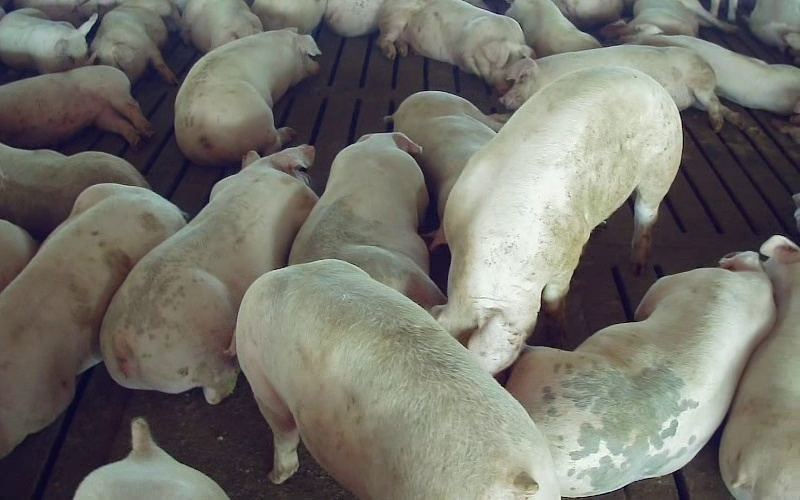pig: (237, 259, 559, 499), (438, 67, 681, 372), (506, 253, 774, 495), (101, 146, 317, 403), (0, 183, 185, 457), (289, 132, 444, 308), (720, 236, 799, 499), (500, 45, 739, 130), (175, 28, 320, 164), (387, 91, 508, 219), (625, 30, 799, 113), (378, 0, 533, 93), (0, 66, 152, 147), (90, 0, 179, 83), (505, 0, 601, 57), (603, 0, 736, 38), (182, 0, 262, 53)
